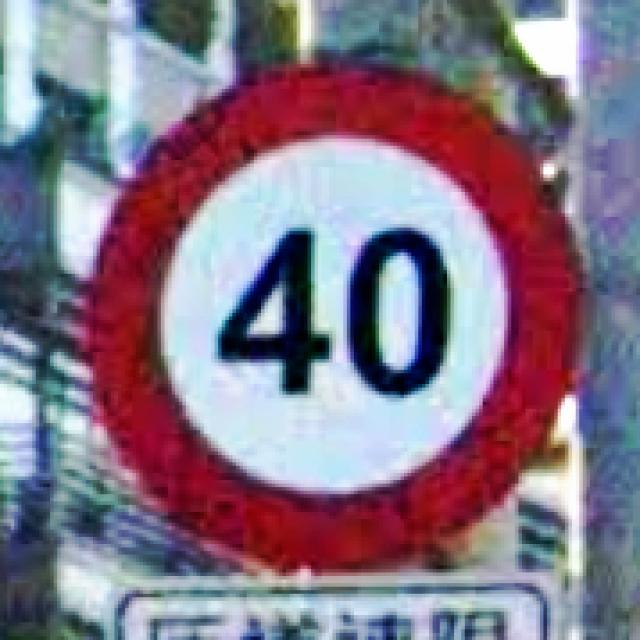max40: (75, 54, 583, 572)
